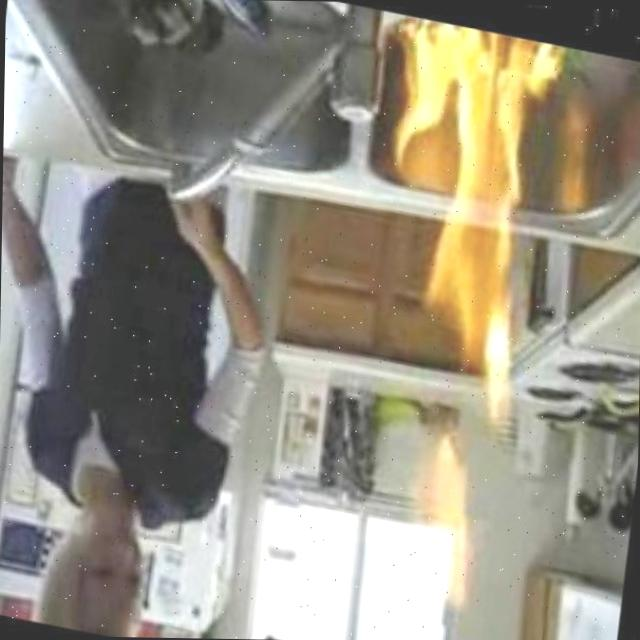fire: (364, 8, 565, 387), (377, 401, 510, 614)
